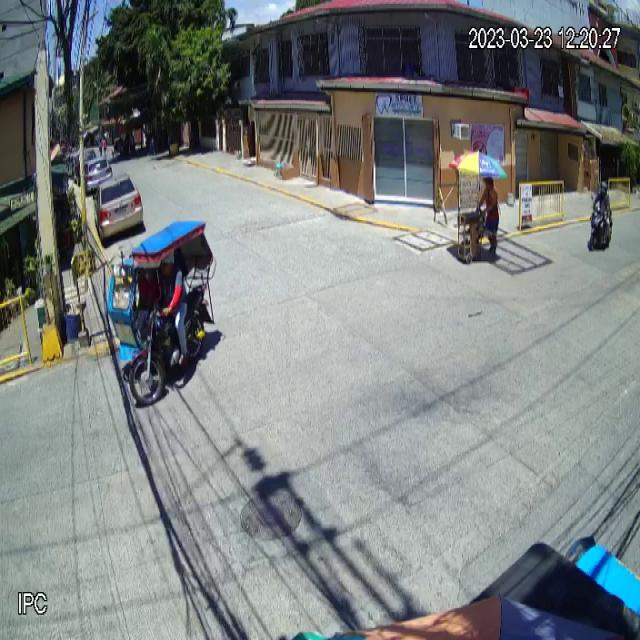Car: (92, 172, 144, 243)
Tricycle: (108, 220, 218, 404)
